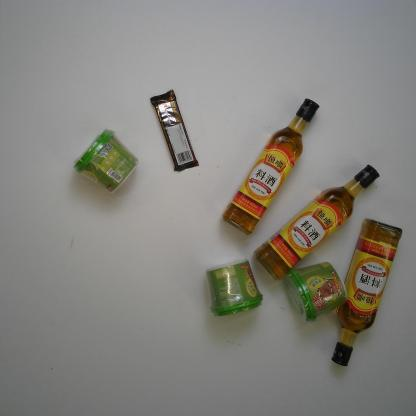Chocolate: (150, 89, 200, 172)
Instant Drink: (74, 128, 140, 194), (282, 260, 347, 325), (205, 259, 264, 317)
Seasoner: (252, 163, 380, 281), (220, 97, 320, 236), (330, 218, 403, 366)
